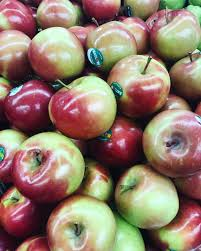apple: (8, 132, 85, 198), (43, 197, 124, 251), (116, 163, 181, 221), (142, 114, 201, 174), (49, 80, 117, 132), (109, 53, 171, 109), (82, 19, 139, 78), (29, 26, 86, 84), (7, 82, 59, 136), (152, 11, 200, 65), (97, 117, 141, 169), (3, 190, 44, 238)
